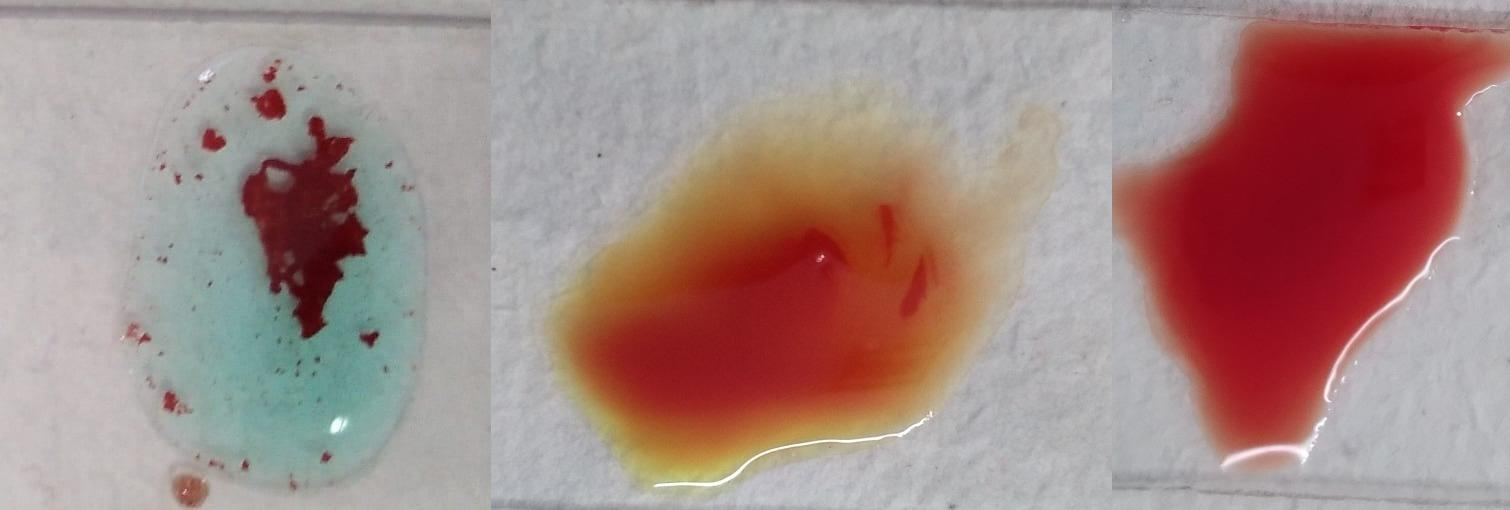A: (119, 53, 440, 489)
